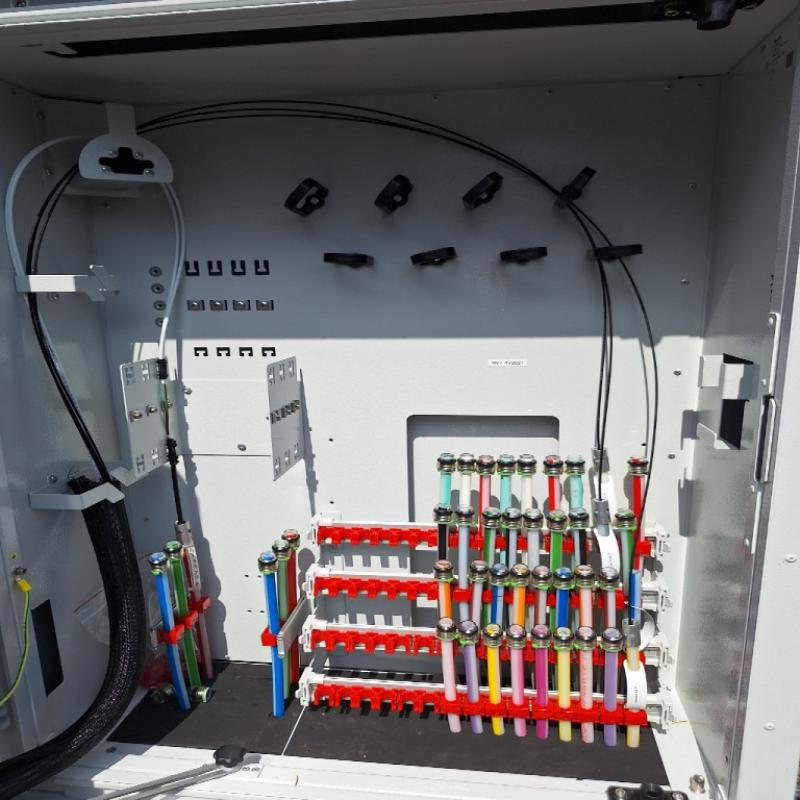NT-Gehause: (8, 19, 800, 790)
